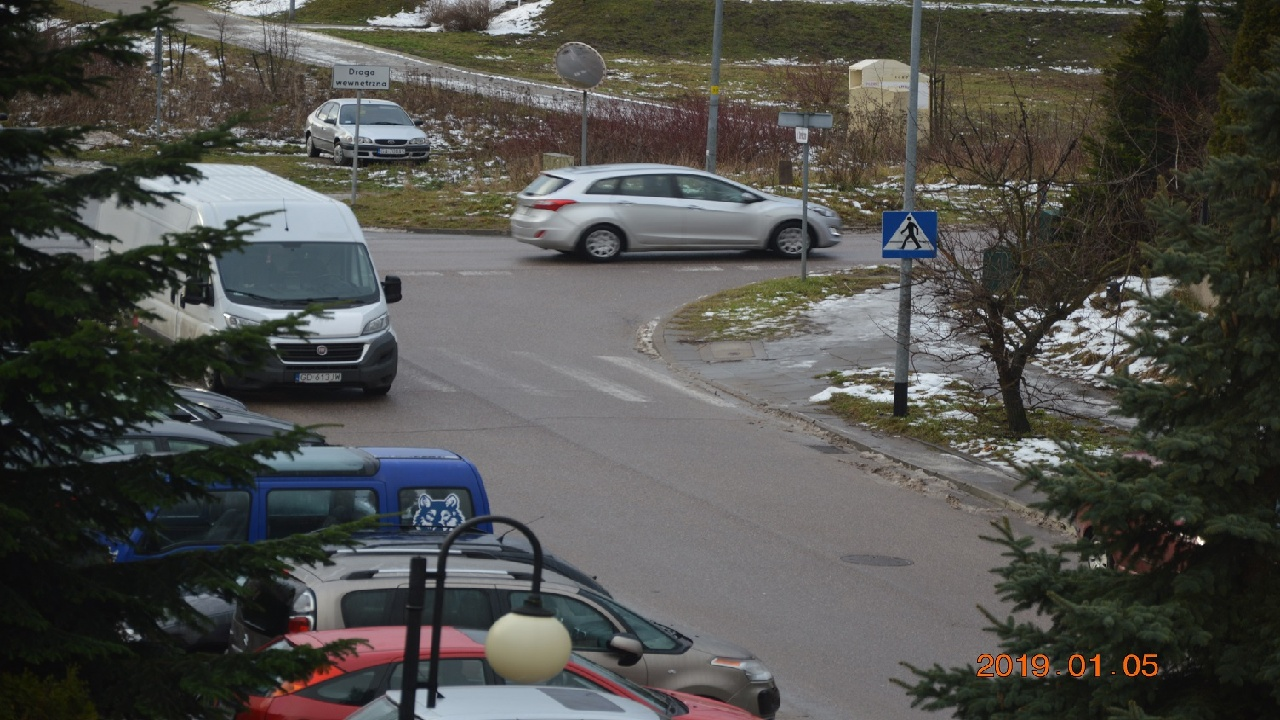D6: (881, 211, 938, 258)
